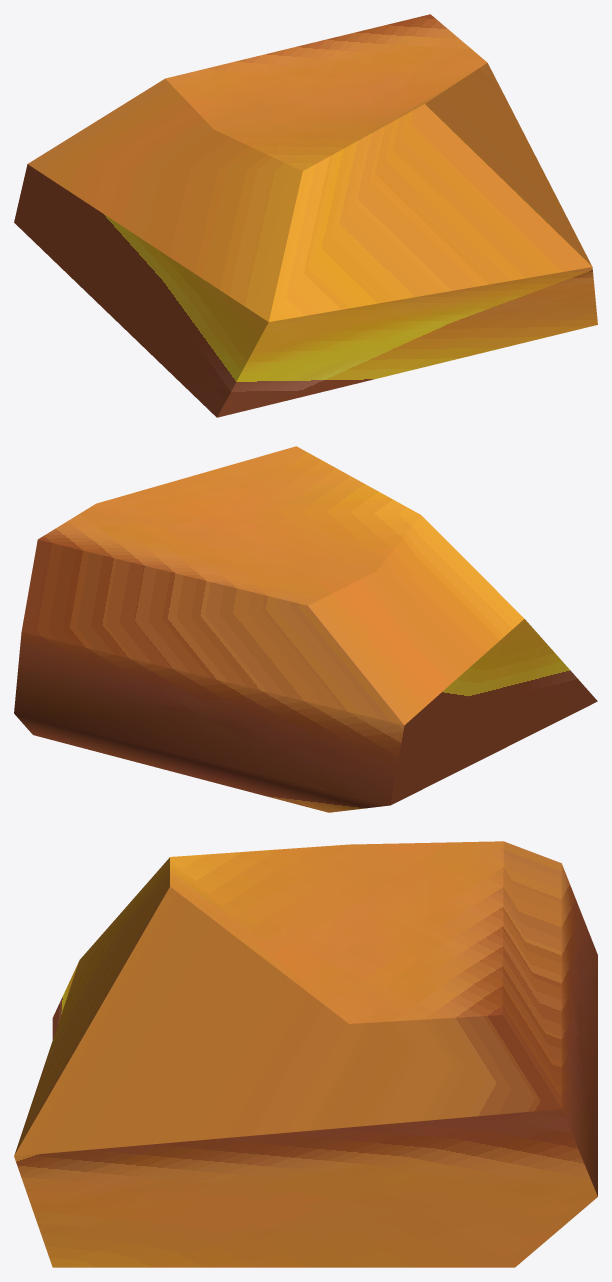
The model's file is SandRock.fbx.
The picture shows the model from 3 angles, top to bottom: view 1: azimuth 30°, elevation 25°; view 2: azimuth 150°, elevation 25°; view 3: azimuth 270°, elevation 25°; orthographic projection. The views are drawn at different scales.
Visible parts, largest first — view 1: pCube2; view 2: pCube2; view 3: pCube2.
Boxes of the visible parts, left/top/right/bottom form: pCube2: left=14, top=14, right=597, bottom=417; pCube2: left=14, top=446, right=597, bottom=812; pCube2: left=14, top=841, right=597, bottom=1267.
Size of the model in its own units: 1 by 0.5665 by 0.988.
Materials: 1 (1 with a texture image).
